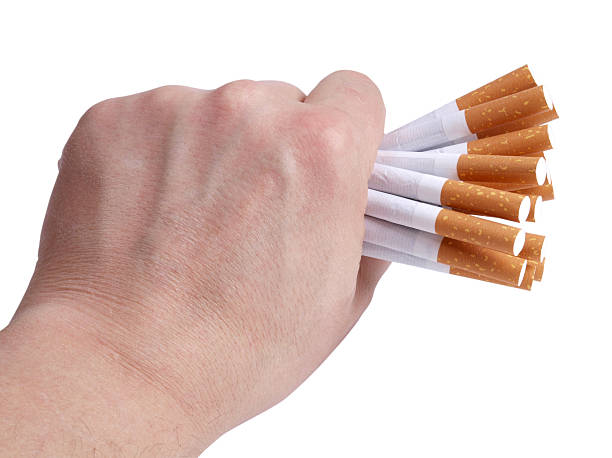cigarette: (359, 61, 541, 135), (363, 213, 527, 286), (379, 84, 553, 151), (365, 186, 526, 256), (368, 162, 531, 225), (360, 241, 537, 291), (418, 103, 560, 151), (375, 153, 547, 187), (431, 122, 557, 154), (508, 181, 554, 202), (523, 232, 549, 263), (526, 194, 543, 225), (533, 255, 545, 283)
